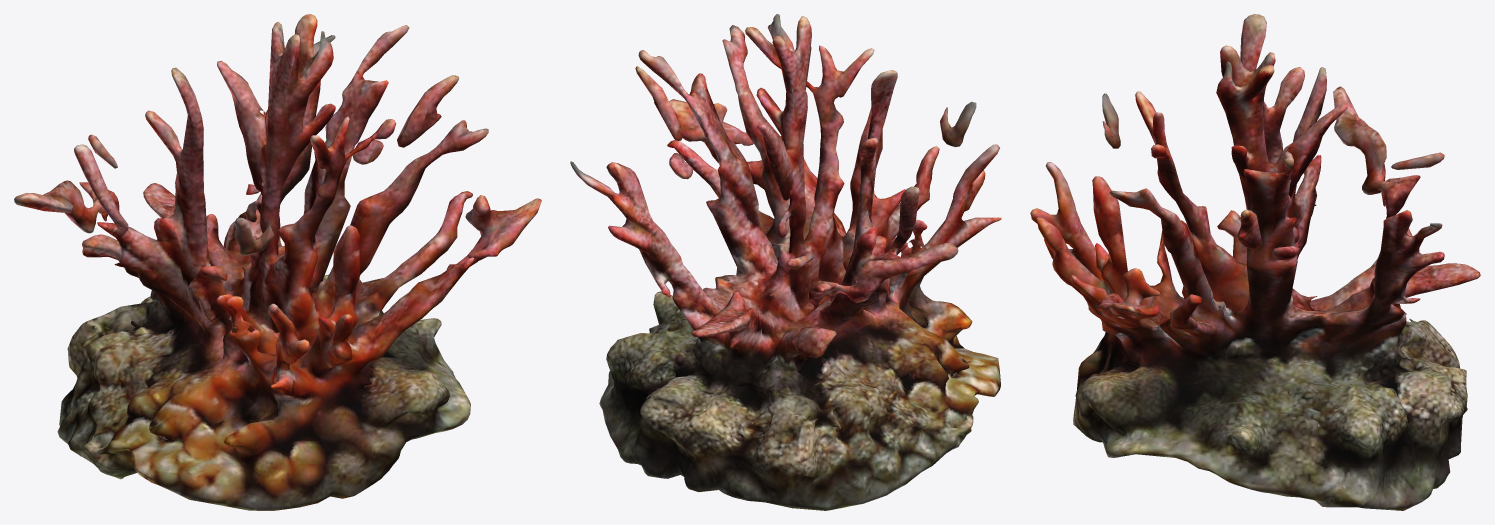
File: coral_l.glb
The picture shows the model from 3 angles, left to right: view 1: azimuth 30°, elevation 25°; view 2: azimuth 150°, elevation 25°; view 3: azimuth 270°, elevation 25°; orthographic projection. The views are drawn at different scales.
Parts seen in each view (by area): view 1: Object_4; view 2: Object_4; view 3: Object_4.
Part boxes in pixels (x1,y1,x2,y2): Object_4: [14, 14, 541, 510]; Object_4: [570, 14, 1001, 510]; Object_4: [1030, 14, 1480, 510].
Bounding box in the file's own units: 1.54 × 1.51 × 1.47.
1 material, 1 textured.
